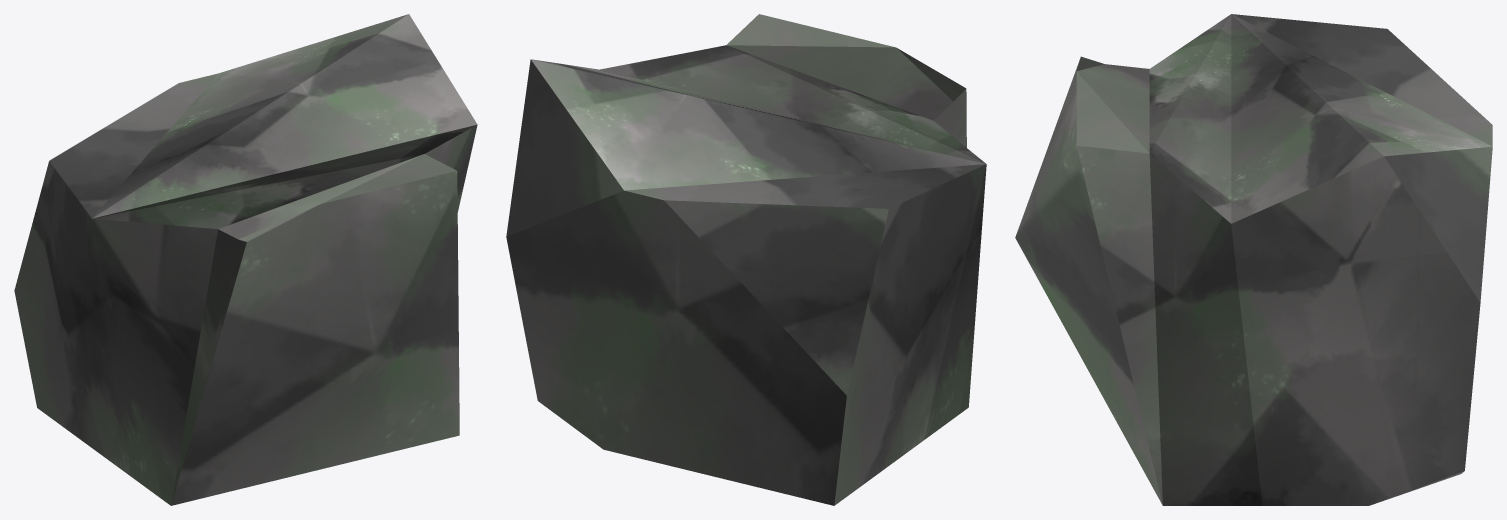
The model's file is BgMD_Stone_0201.fbx.
3 renders of one model, left to right at view 1: azimuth 30°, elevation 25°; view 2: azimuth 150°, elevation 25°; view 3: azimuth 270°, elevation 25°, orthographic. The views are drawn at different scales.
Parts seen in each view (by area): view 1: stone_; view 2: stone_; view 3: stone_.
Boxes of the visible parts, <box> form: stone_: <box>14,14,477,505</box>; stone_: <box>506,14,986,505</box>; stone_: <box>1015,14,1492,505</box>.
Bounding box in the file's own units: 239 × 200 × 230.
